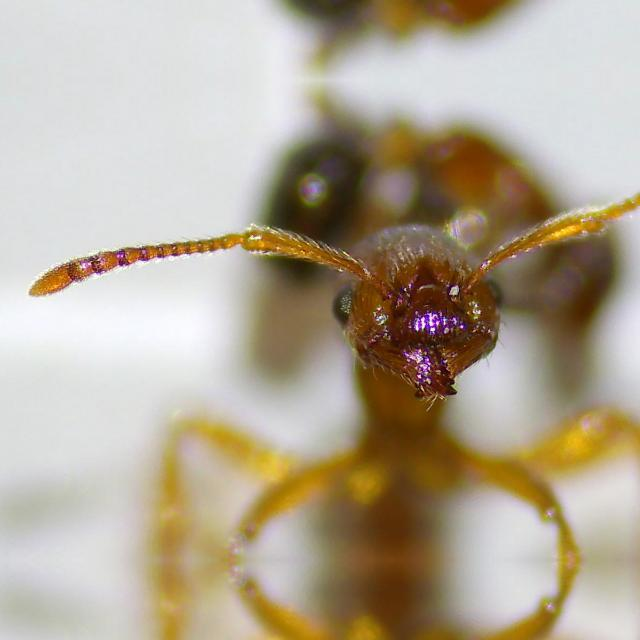Myrmica: (136, 81, 640, 523)
